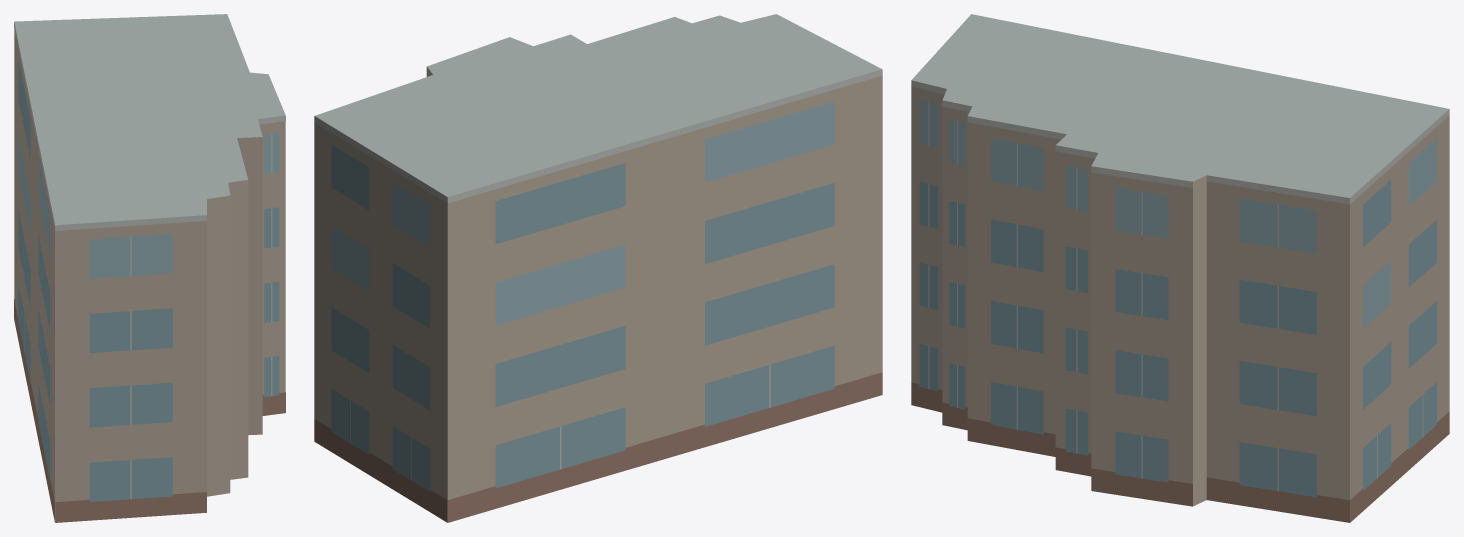
The model's file is survey-upis-32984132.glb.
The picture shows the model from 3 angles, left to right: view 1: azimuth 30°, elevation 25°; view 2: azimuth 150°, elevation 25°; view 3: azimuth 270°, elevation 25°; orthographic projection. The views are drawn at different scales.
Visible parts, largest first — view 1: survey-upis-32984132.tmp; view 2: survey-upis-32984132.tmp; view 3: survey-upis-32984132.tmp.
Part boxes in pixels (x1,y1,x2,y2): survey-upis-32984132.tmp: (14, 14, 285, 522); survey-upis-32984132.tmp: (314, 14, 882, 522); survey-upis-32984132.tmp: (911, 14, 1449, 522).
Size of the model in its own units: 15.45 by 12.7 by 19.09.
